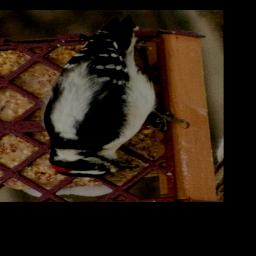Woodpecker: (45, 16, 190, 177)
